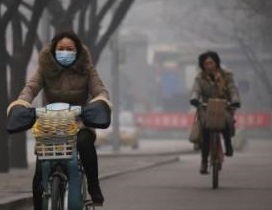person: (8, 31, 114, 210), (188, 48, 243, 189)
